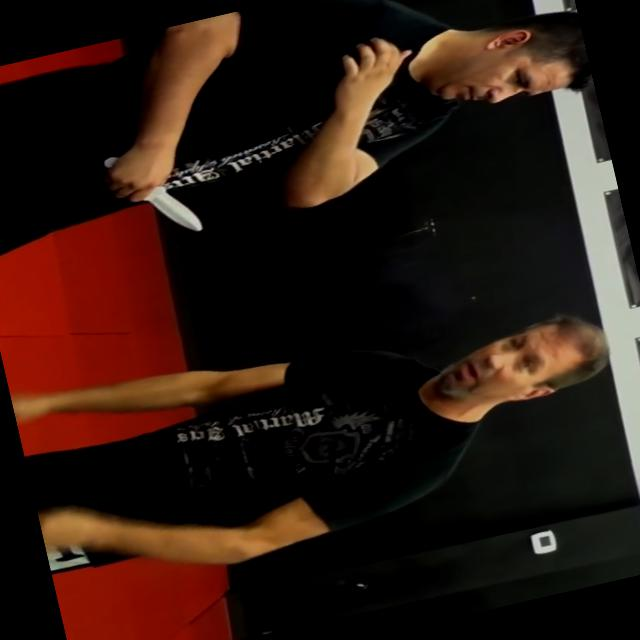knife: (94, 134, 212, 253)
